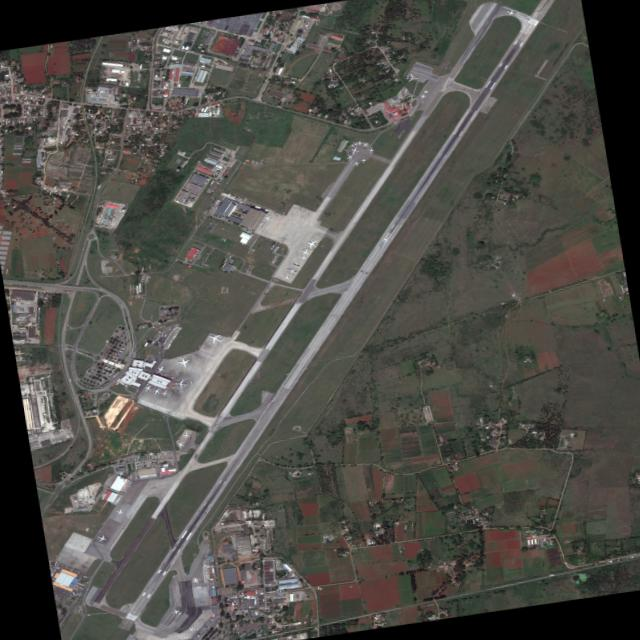plane: (205, 331, 223, 345), (303, 237, 319, 250), (175, 355, 191, 368), (283, 265, 298, 276), (174, 378, 186, 389), (94, 533, 107, 543), (405, 73, 418, 82), (298, 247, 311, 256), (150, 387, 161, 396), (141, 384, 152, 392), (349, 146, 359, 154), (155, 365, 165, 373), (289, 261, 300, 268), (504, 9, 515, 16), (381, 235, 390, 243), (175, 440, 184, 448), (262, 214, 272, 221), (114, 508, 124, 515), (344, 153, 353, 160), (170, 608, 178, 615), (281, 274, 289, 281), (297, 254, 306, 260), (191, 576, 198, 583), (360, 141, 368, 147), (351, 160, 359, 166), (181, 432, 189, 438), (159, 390, 167, 396), (187, 626, 195, 631), (419, 93, 425, 99), (422, 89, 428, 94), (359, 158, 365, 162), (367, 148, 373, 152), (356, 141, 361, 145), (349, 143, 353, 147), (350, 152, 354, 155), (353, 142, 357, 145)
